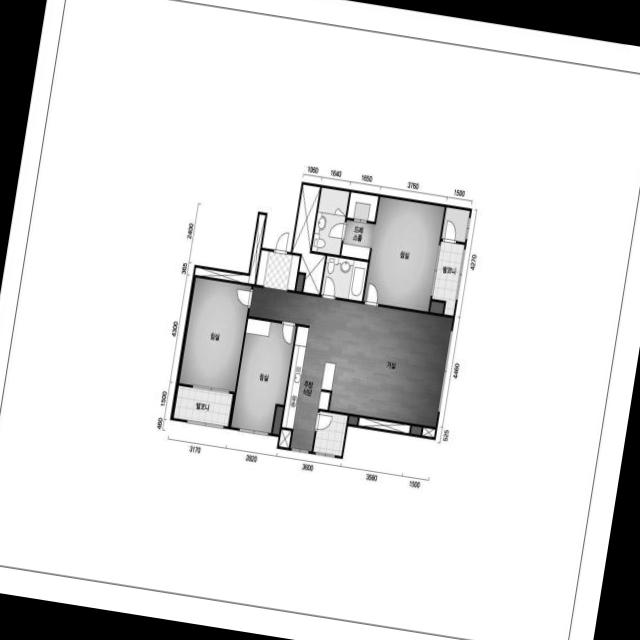background: (0, 0, 640, 640)
space_balconi: (173, 386, 233, 427), (432, 241, 464, 316), (313, 412, 348, 456)
space_bedroom: (364, 197, 445, 312), (179, 277, 251, 392), (231, 318, 296, 433)
space_dressroom: (341, 220, 376, 260), (347, 192, 378, 222)
space_front: (256, 250, 300, 292)
space_kitchen: (282, 326, 341, 452)
space_living_room: (249, 287, 453, 427)
space_other: (195, 214, 266, 284), (292, 185, 325, 295), (441, 207, 470, 242), (358, 418, 410, 434), (273, 407, 283, 435), (279, 430, 291, 448), (430, 301, 444, 314), (296, 275, 304, 293), (422, 428, 435, 438), (411, 426, 422, 435), (348, 416, 358, 425)
space_toilet: (312, 187, 349, 255), (321, 256, 368, 301)
